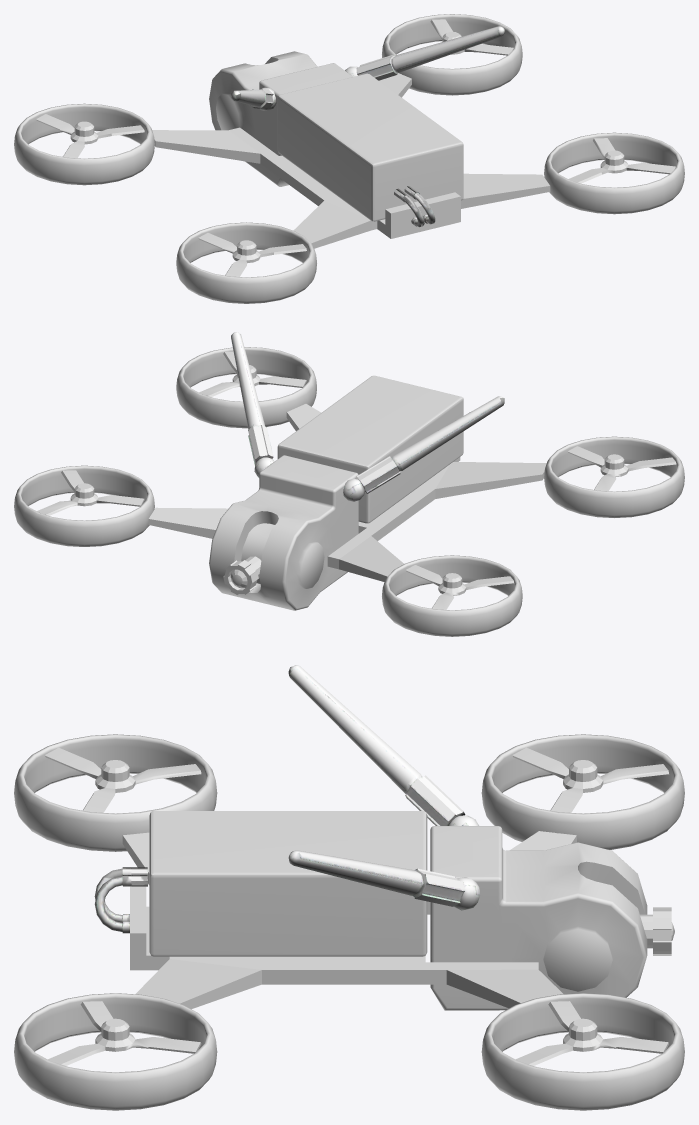
File: Drone.fbx
3 views of the same model, one above another, from view 1: azimuth 30°, elevation 25°; view 2: azimuth 150°, elevation 25°; view 3: azimuth 270°, elevation 25° (orthographic). The views are drawn at different scales.
Parts seen in each view (by area): view 1: Battery, DroneFrame, FanCowl1, FanCowl3, FanCowl4, Camera, FanCowl2, Antenna2, FanBlades4, FanBlades3, FanBlades1, FanBlades2 (+2 smaller); view 2: Camera, Battery, DroneFrame, FanCowl2, FanCowl4, FanCowl3, FanCowl1, Antenna1, Antenna2, FanBlades3, FanBlades4, FanBlades2 (+2 smaller); view 3: Battery, Camera, DroneFrame, FanCowl1, FanCowl2, FanCowl4, FanCowl3, Antenna1, Antenna2, FanBlades3, FanBlades4, FanBlades1 (+3 smaller).
Boxes of the visible parts, box(x1,y1,x2,y2) form: Battery: box(277, 73, 463, 221); DroneFrame: box(152, 73, 550, 248); FanCowl1: box(544, 132, 684, 214); FanCowl3: box(176, 222, 316, 303); FanCowl4: box(14, 103, 154, 185); Camera: box(209, 51, 352, 186); FanCowl2: box(382, 14, 522, 95); Antenna2: box(345, 26, 504, 80); FanBlades4: box(36, 114, 144, 158); FanBlades3: box(198, 233, 306, 276); FanBlades1: box(568, 138, 676, 183); FanBlades2: box(430, 19, 513, 55); Camera: box(209, 455, 358, 610); Battery: box(277, 375, 463, 523); DroneFrame: box(148, 404, 546, 581); FanCowl2: box(14, 465, 154, 546); FanCowl4: box(382, 555, 522, 636); FanCowl3: box(544, 436, 684, 517); FanCowl1: box(176, 347, 316, 428); Antenna1: box(343, 396, 504, 501); Antenna2: box(231, 332, 274, 477); FanBlades3: box(567, 446, 676, 491); FanBlades4: box(405, 565, 513, 609); FanBlades2: box(37, 470, 144, 515); Battery: box(149, 811, 427, 956); Camera: box(430, 826, 647, 1010); DroneFrame: box(122, 831, 576, 1009); FanCowl1: box(14, 993, 217, 1110); FanCowl2: box(481, 993, 684, 1110); FanCowl4: box(481, 734, 684, 849); FanCowl3: box(14, 734, 217, 851); Antenna1: box(288, 665, 478, 825); Antenna2: box(288, 850, 480, 910); FanBlades3: box(44, 747, 201, 812); FanBlades4: box(512, 747, 668, 812); FanBlades1: box(48, 1001, 201, 1065).
Size of the model in its own units: 17.69 by 5.62 by 14.55.
